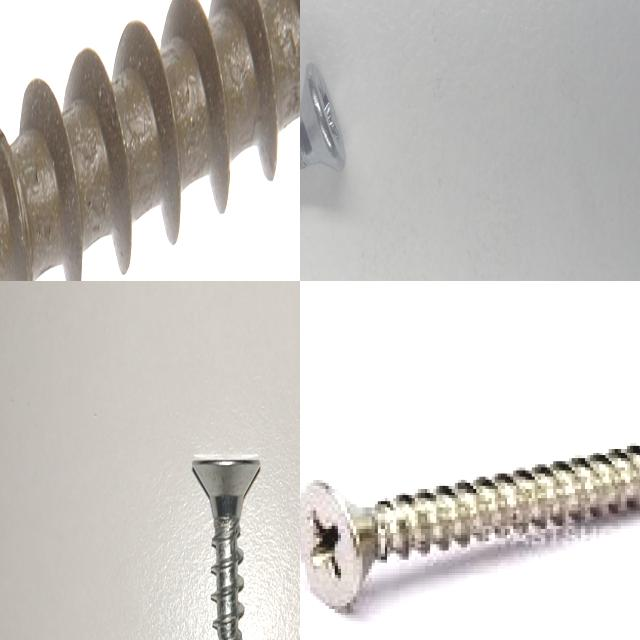Screw: (0, 0, 300, 281), (300, 443, 640, 612), (192, 454, 260, 640), (300, 61, 345, 171)
